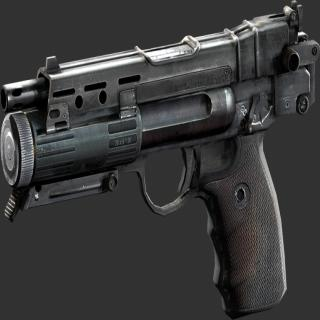gun: (1, 1, 319, 317)
